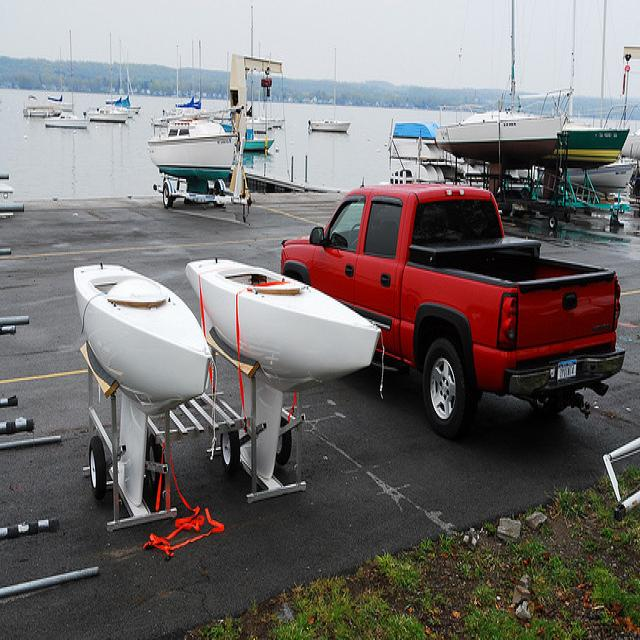Vehicle: (280, 182, 630, 438)
